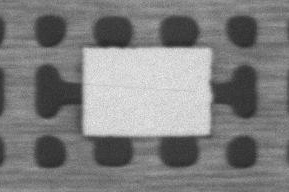DIE_CRACK: (128, 56, 289, 60)
